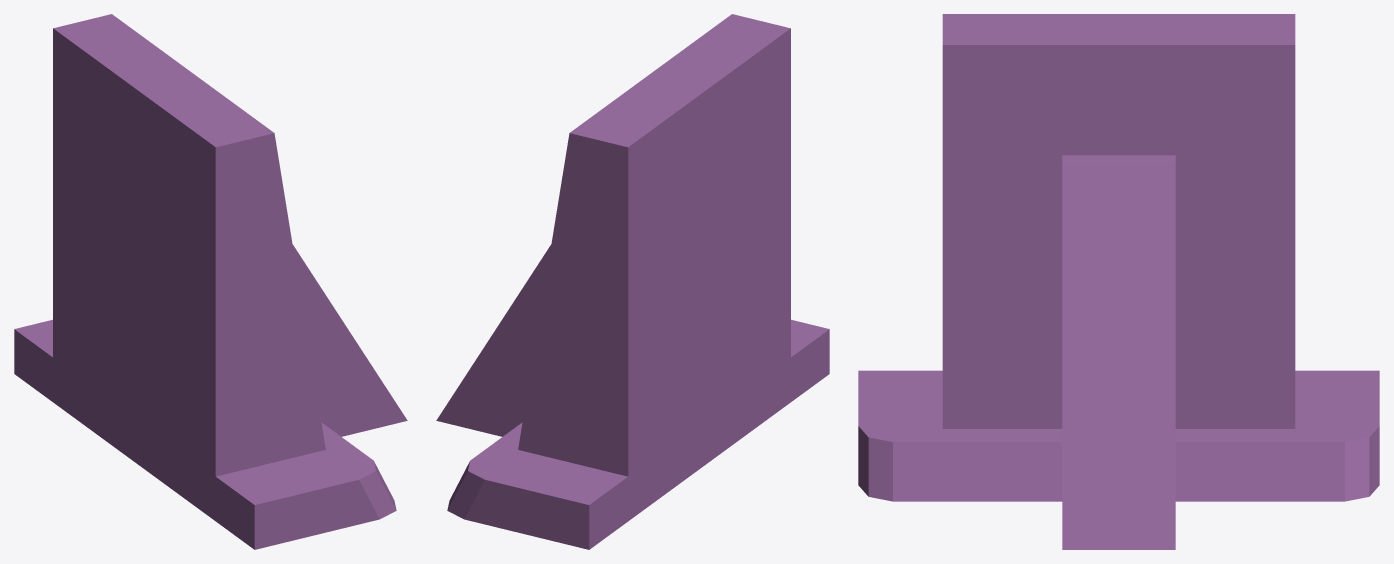
Rendered from 09_book_st.glb.
3 renders of one model, left to right at view 1: azimuth 30°, elevation 25°; view 2: azimuth 150°, elevation 25°; view 3: azimuth 270°, elevation 25°, orthographic. The views are drawn at different scales.
Visible parts, largest first — view 1: Book_St; view 2: Book_St; view 3: Book_St.
Part boxes in pixels (<box>): Book_St: <box>14,14,407,549</box>; Book_St: <box>436,14,829,549</box>; Book_St: <box>858,14,1379,549</box>.
Bounding box in the file's own units: 0.1288 × 0.1863 × 0.2171.
